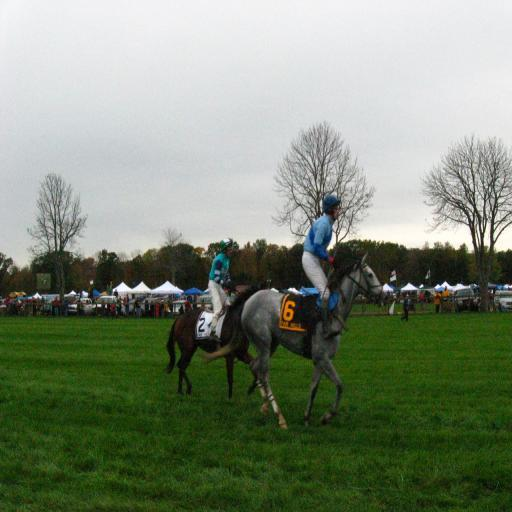Horse: (234, 252, 389, 429), (164, 281, 267, 397)
